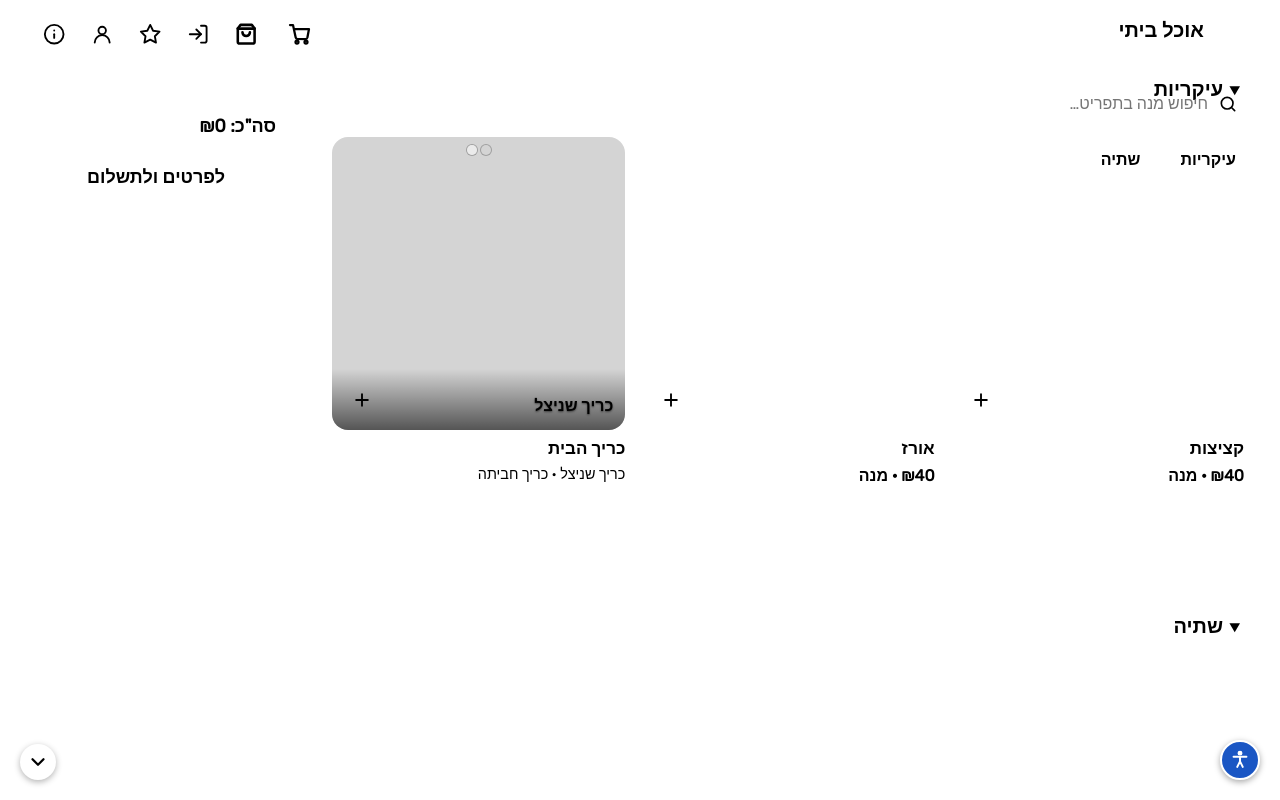
The basket button › opens every chosen dish, where the amount can be changed and a dish removed
The image size is (1280, 800).
(page scrolled)
What coordinates should you click on to do the following:
click the button named "הוספה להזמנה: קציצות"
I would click on:
 (981, 400)
Its box is top-left (959, 378), bottom-right (1003, 422).
(page scrolled)
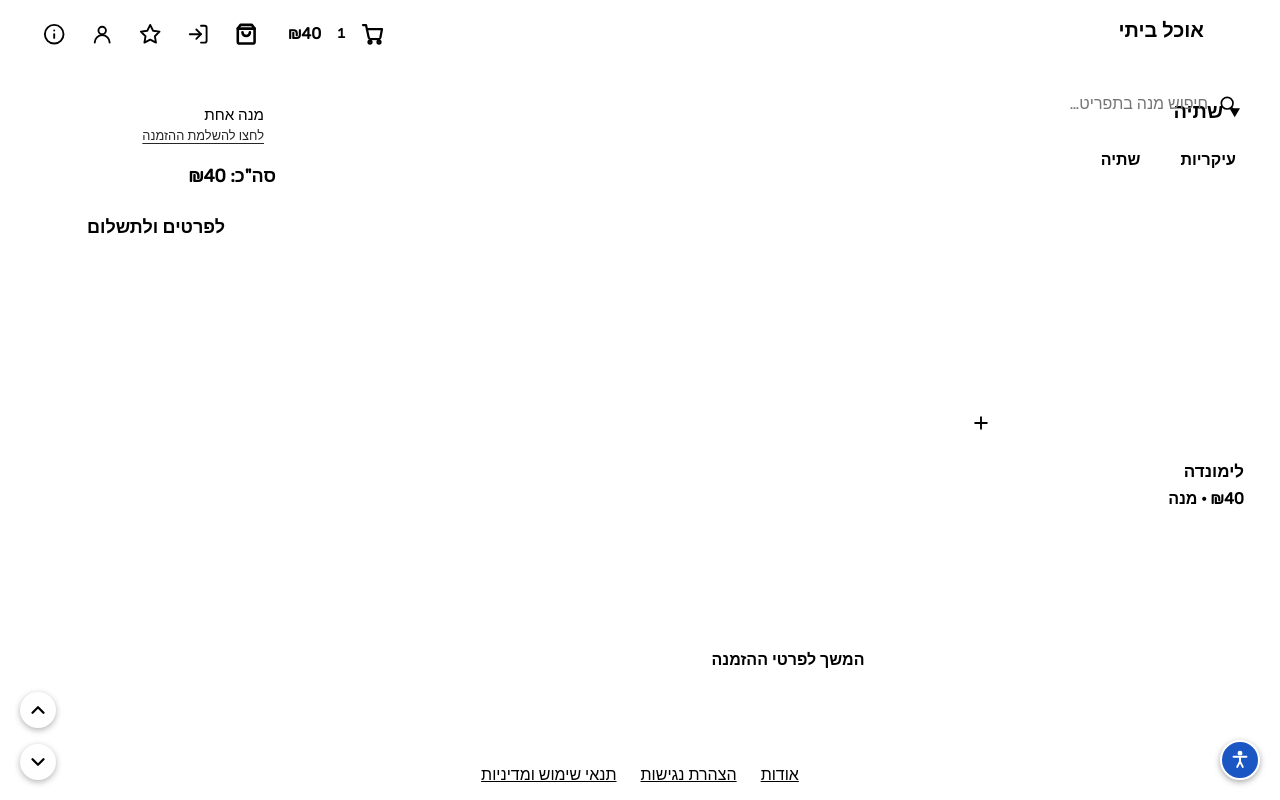
What coordinates should you click on to do the following:
click the button named "הוספה להזמנה: לימונדה"
I would click on:
 (981, 422)
Its box is top-left (959, 400), bottom-right (1003, 444).
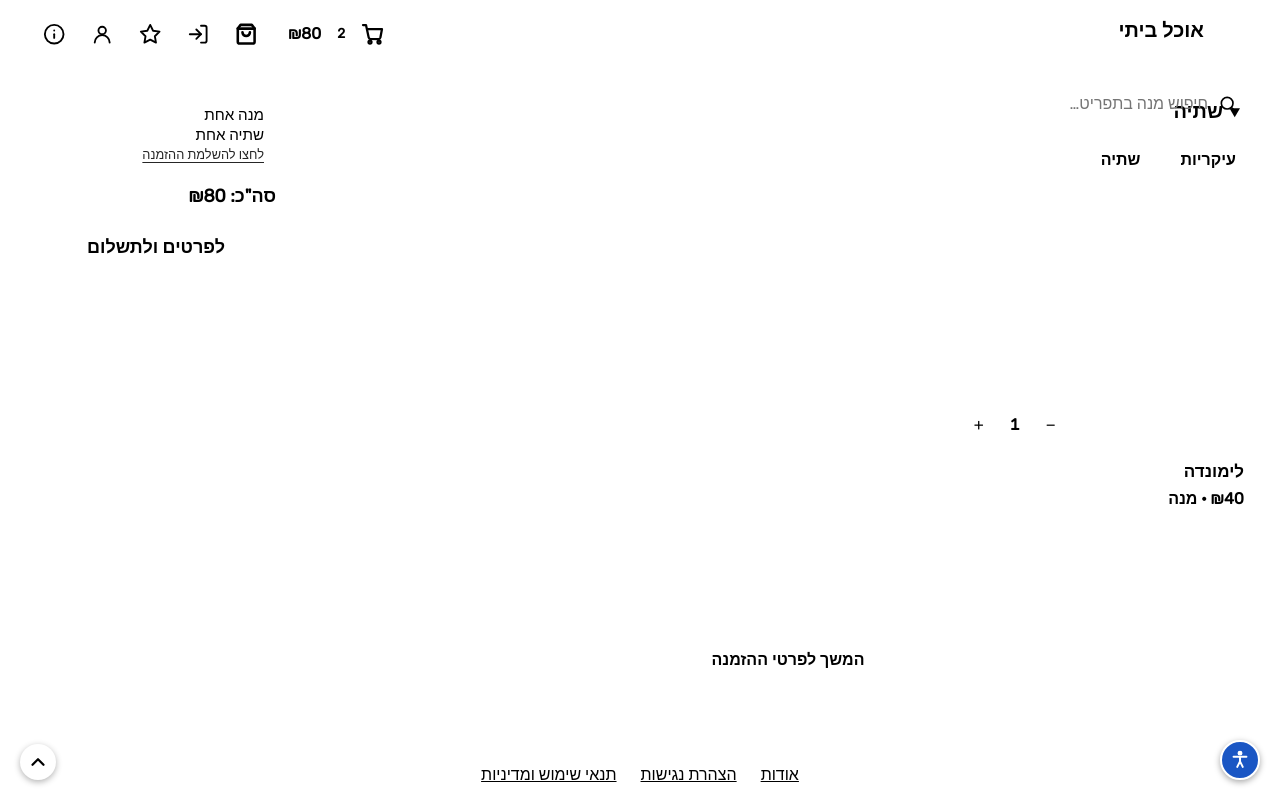
What coordinates should you click on to do the following:
click the button named "הסל שלי, 2 פריטים"
I would click on:
 (337, 34)
Its box is top-left (272, 12), bottom-right (401, 56).
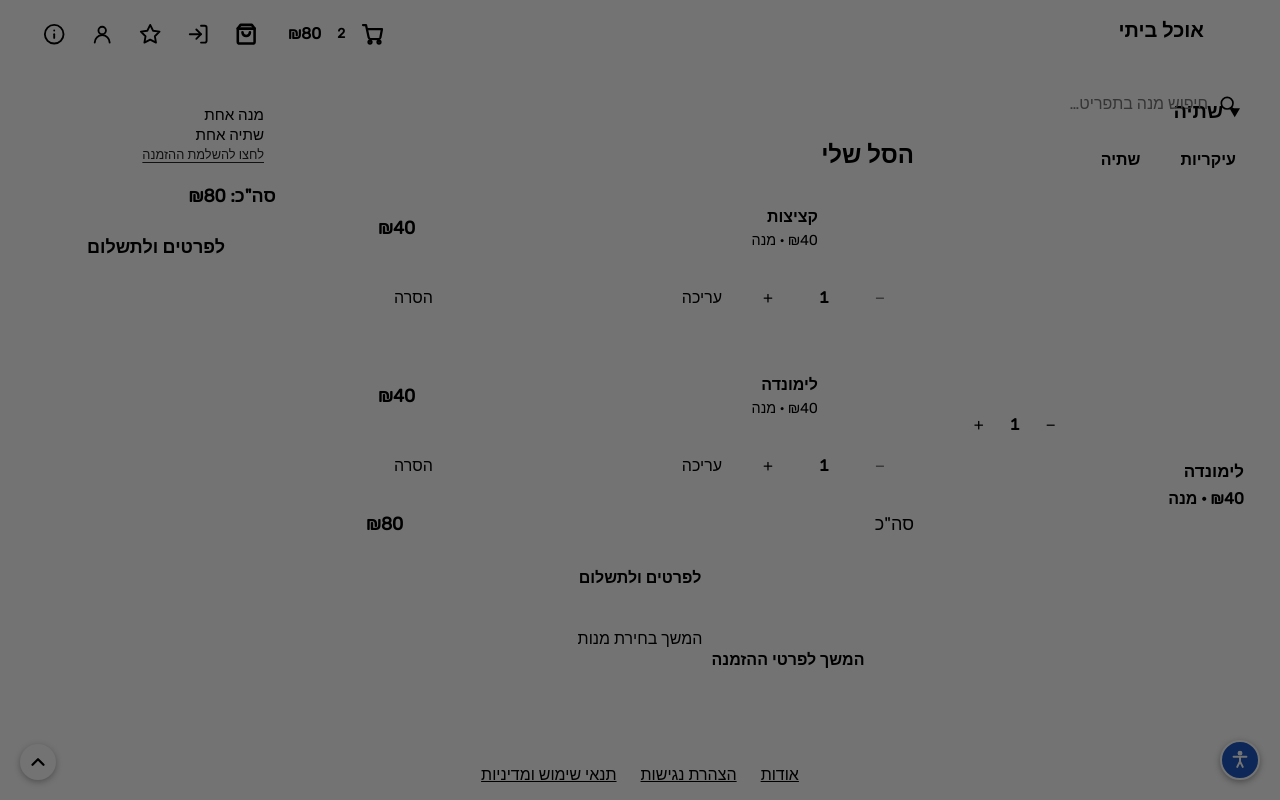
Check: the text "קציצות" is shown, box top-left (767, 207), bottom-right (818, 226)
Check: the text "לימונדה" is shown, box top-left (761, 375), bottom-right (818, 394)
What coordinates should you click on to do the following:
click the button named "הוספה: קציצות"
I would click on:
 (768, 298)
Its box is top-left (746, 276), bottom-right (790, 320).
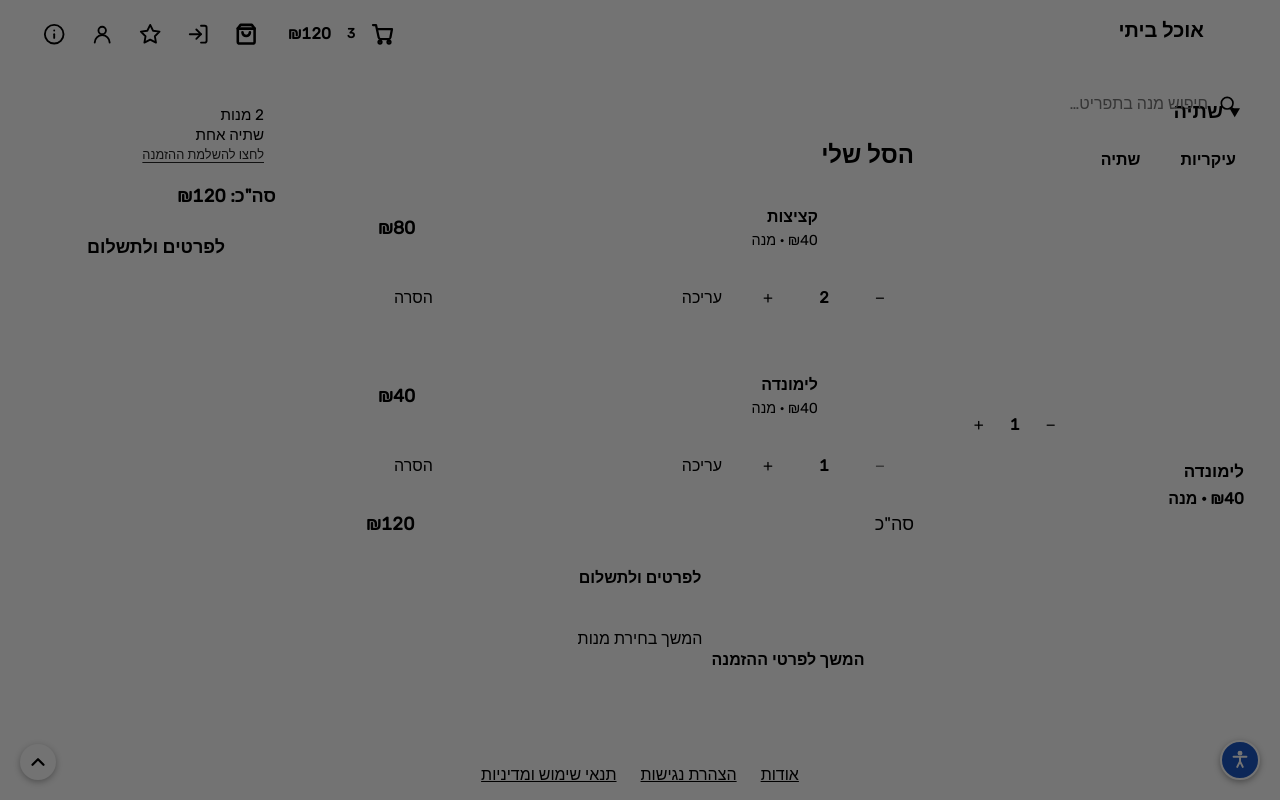
Check: the text "₪120" is shown, box top-left (366, 510), bottom-right (414, 539)
Check: the button named "הסל שלי, 3 פריטים" is shown, box top-left (272, 12), bottom-right (411, 56)
What coordinates should you click on to do the following:
click the button with aria-label "הסרה מההזמנה: לימונדה"
I would click on:
 (413, 466)
Its box is top-left (382, 444), bottom-right (445, 488).
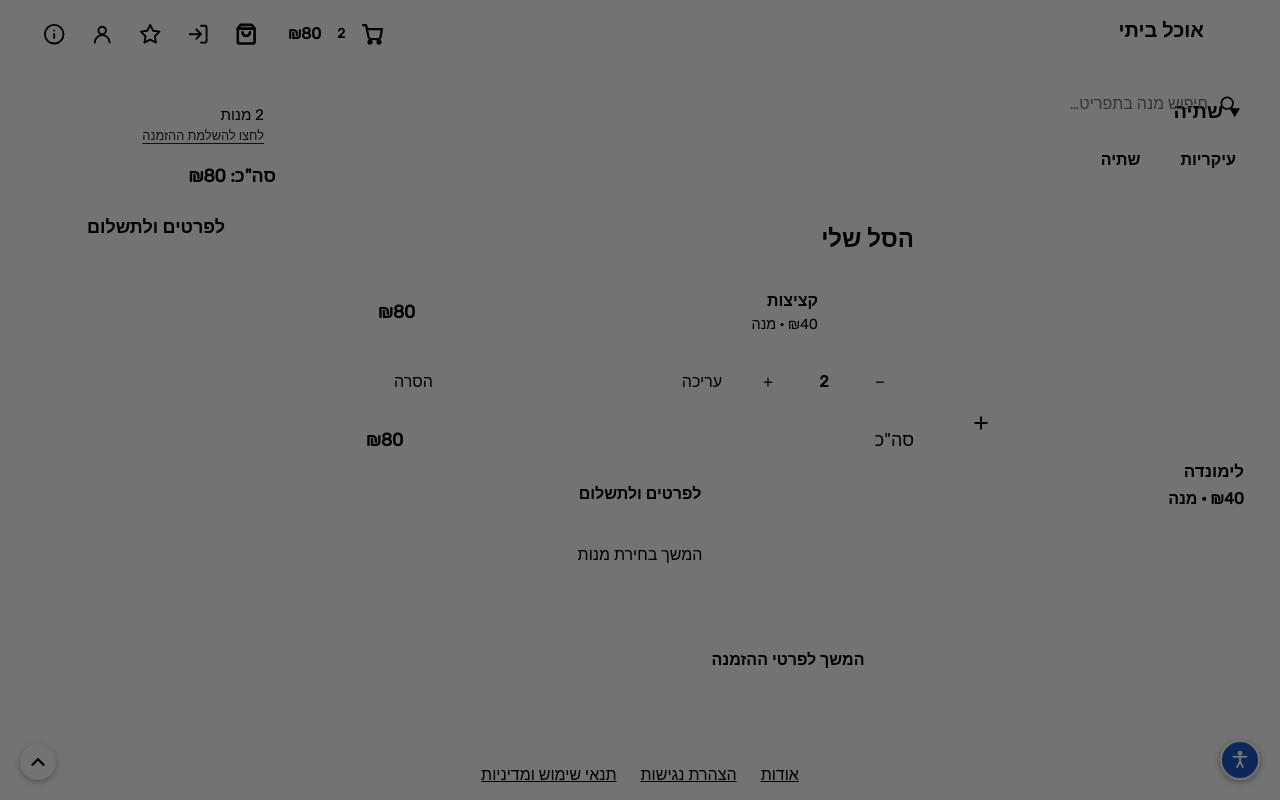
What coordinates should you click on to do the following:
click the button "המשך בחירת מנות"
I would click on:
 (640, 554)
Its box is top-left (370, 532), bottom-right (910, 576).
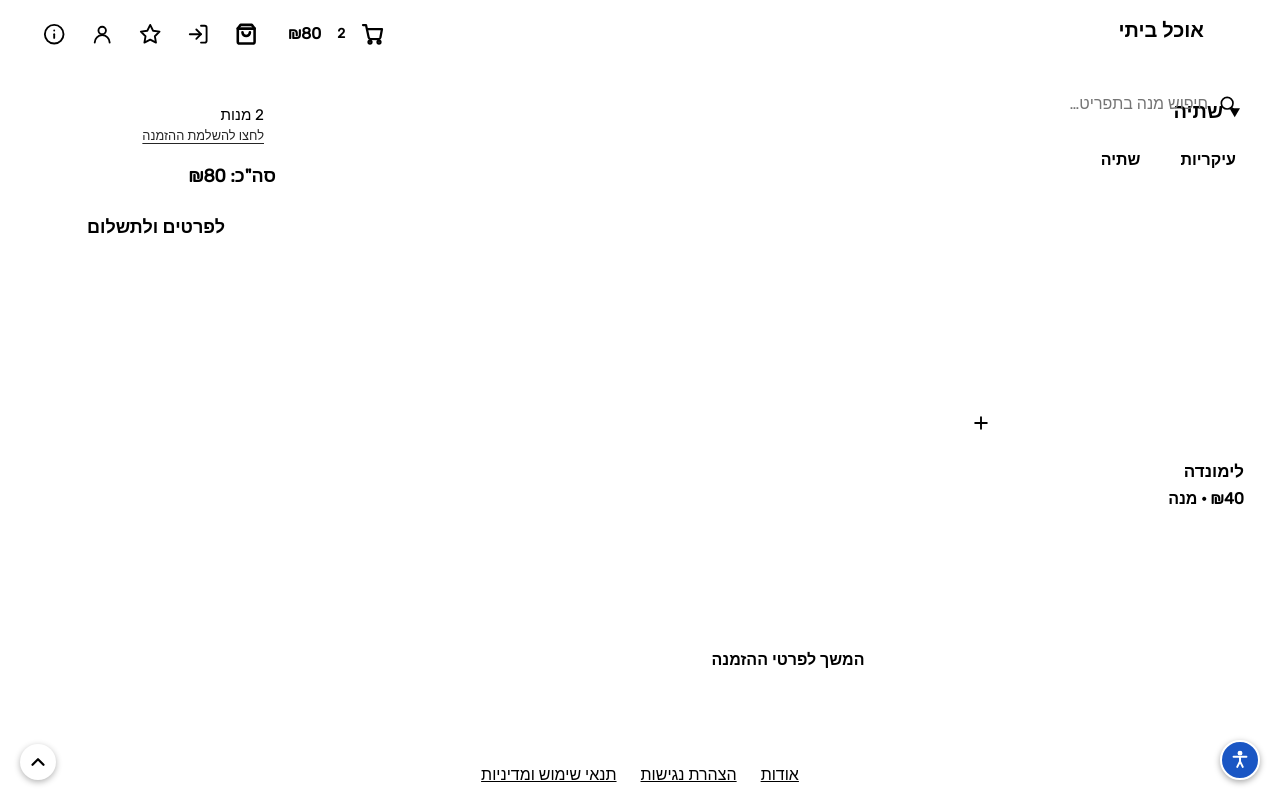
Check: the dialog is gone
